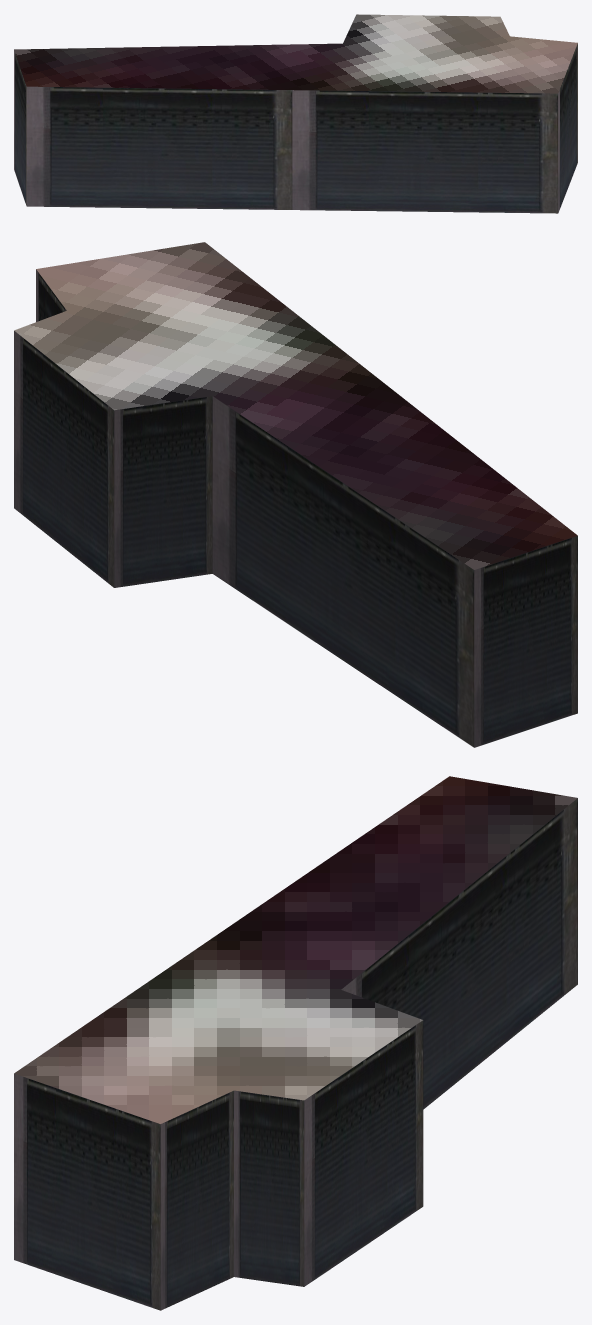
The model's file is T_1T8GB4PHUD.dae.
3 renders of one model, top to bottom at view 1: azimuth 30°, elevation 25°; view 2: azimuth 150°, elevation 25°; view 3: azimuth 270°, elevation 25°, orthographic. The views are drawn at different scales.
Visible parts, largest first — view 1: SketchUp (×4); view 2: SketchUp (×6); view 3: SketchUp (×6).
Part boxes in pixels (x1,y1,x2,y2): SketchUp (×4): (14,14,577,213); SketchUp (×6): (14,242,577,747); SketchUp (×6): (14,776,577,1310).
Size of the model in its own units: 9.2 by 6.3 by 2.3.
Materials: 2 (2 with a texture image).
